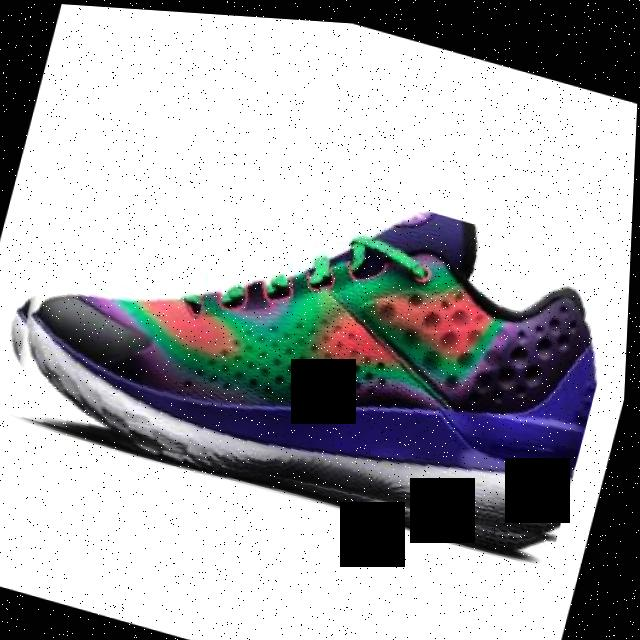shoe: (0, 104, 633, 561)
